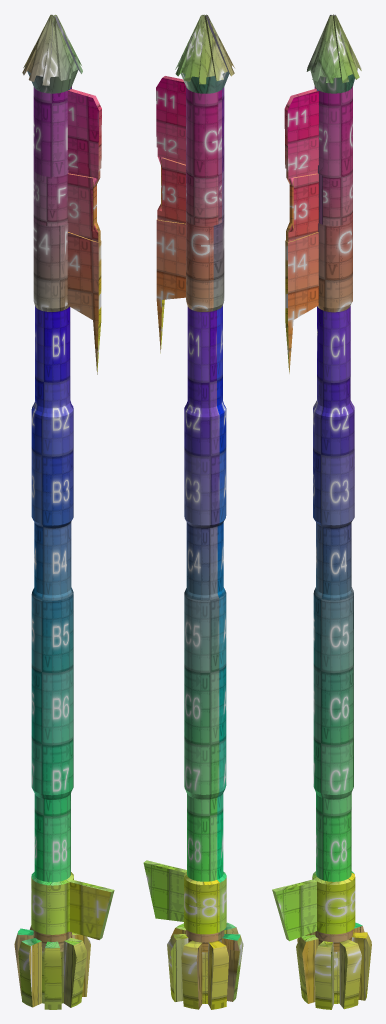
File: PropForTexture.obj
The picture shows the model from 3 angles, left to right: view 1: azimuth 30°, elevation 25°; view 2: azimuth 210°, elevation 25°; view 3: azimuth 270°, elevation 25°; orthographic projection.
Parts seen in each view (by area): view 1: pCylinder1; view 2: pCylinder1; view 3: pCylinder1.
Part boxes in pixels (box(x1,y1,x2,y2)): pCylinder1: box(14, 14, 114, 1009); pCylinder1: box(143, 14, 243, 1009); pCylinder1: box(272, 14, 371, 1009).
Size of the model in its own units: 3.98 by 56.41 by 5.2.
Materials: 1 (1 with a texture image).
